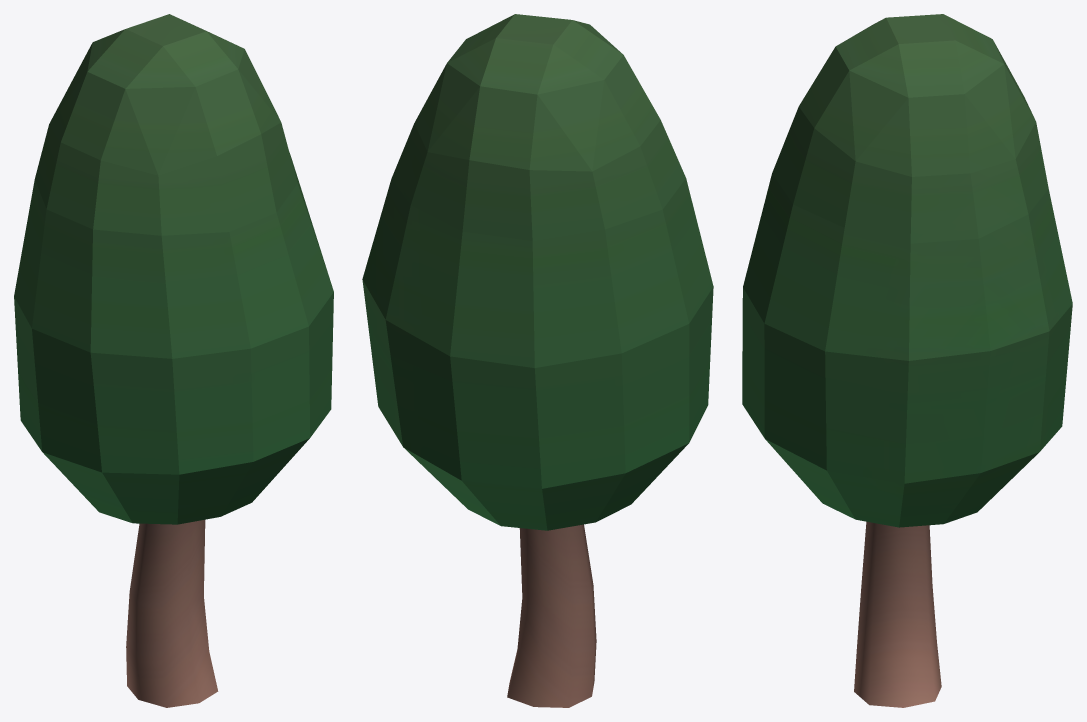
File: SM_Exterior_Seto_02.fbx
The picture shows the model from 3 angles, left to right: view 1: azimuth 30°, elevation 25°; view 2: azimuth 150°, elevation 25°; view 3: azimuth 270°, elevation 25°; orthographic projection. The views are drawn at different scales.
Parts seen in each view (by area): view 1: SM_Exterior_Seto2; view 2: SM_Exterior_Seto2; view 3: SM_Exterior_Seto2.
Boxes of the visible parts, <box> form: SM_Exterior_Seto2: <box>14,14,333,707</box>; SM_Exterior_Seto2: <box>362,14,713,707</box>; SM_Exterior_Seto2: <box>742,14,1072,707</box>.
Bounding box in the file's own units: 200 × 428 × 193.
